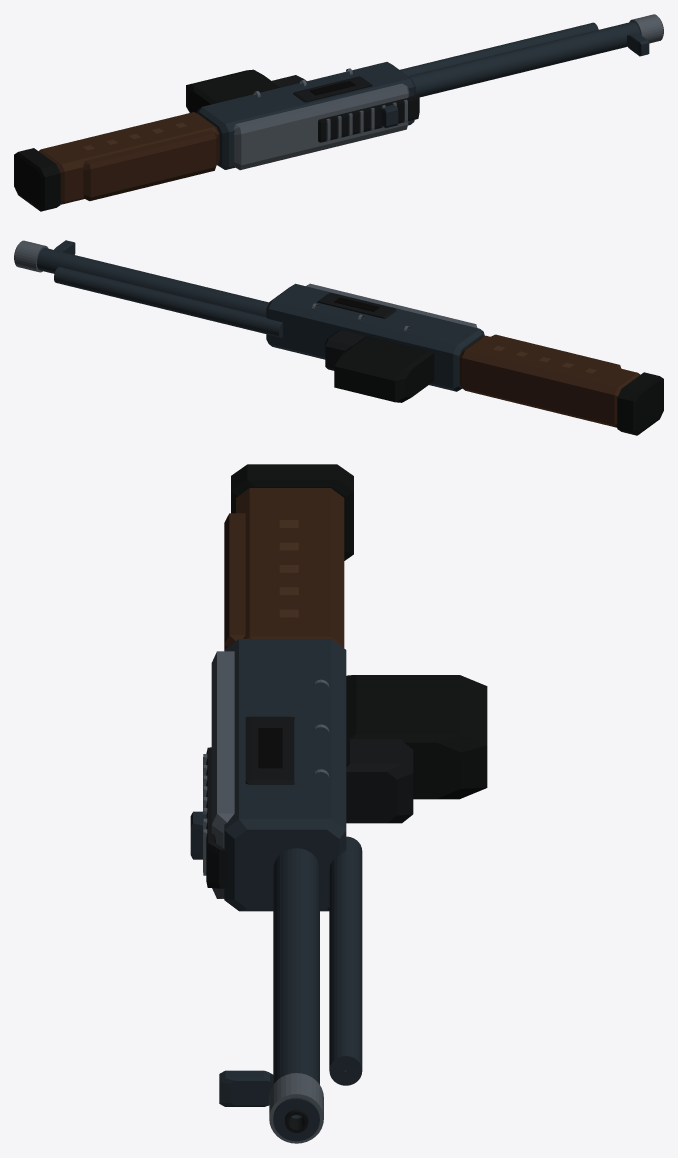
The model's file is shotmaker_main_1995_lod0.obj.
3 views of the same model, one above another, from view 1: azimuth 30°, elevation 25°; view 2: azimuth 150°, elevation 25°; view 3: azimuth 270°, elevation 25° (orthographic). The views are drawn at different scales.
Visible parts, largest first — view 1: receiver_upper, stock_comb, barrel_outer, receiver, buttstock, recoil_pad, pistol_grip, tube_magazine, top_rail, ejection_port, muzzle_sleeve, front_sight (+1 smaller); view 2: buttstock, receiver, pistol_grip, tube_magazine, barrel_outer, recoil_pad, trigger_housing, receiver_upper, ejection_port, muzzle_sleeve, stock_comb; view 3: receiver, buttstock, pistol_grip, barrel_outer, tube_magazine, trigger_housing, receiver_upper, recoil_pad, stock_comb, ejection_port, front_sight, muzzle_sleeve (+2 smaller).
Boxes of the visible parts, x1=… form: receiver_upper: x1=234, y1=83, x2=409, y2=170; stock_comb: x1=83, y1=130, x2=217, y2=201; barrel_outer: x1=409, y1=18, x2=663, y2=97; receiver: x1=197, y1=62, x2=415, y2=169; buttstock: x1=38, y1=112, x2=219, y2=204; recoil_pad: x1=14, y1=148, x2=60, y2=211; pistol_grip: x1=186, y1=69, x2=279, y2=112; tube_magazine: x1=400, y1=22, x2=598, y2=76; top_rail: x1=318, y1=93, x2=419, y2=142; ejection_port: x1=293, y1=76, x2=372, y2=102; muzzle_sleeve: x1=629, y1=14, x2=663, y2=43; front_sight: x1=627, y1=33, x2=649, y2=56; buttstock: x1=459, y1=335, x2=640, y2=427; receiver: x1=266, y1=283, x2=484, y2=391; pistol_grip: x1=334, y1=336, x2=434, y2=402; tube_magazine: x1=54, y1=267, x2=282, y2=337; barrel_outer: x1=14, y1=244, x2=268, y2=316; recoil_pad: x1=617, y1=372, x2=663, y2=435; trigger_housing: x1=325, y1=330, x2=365, y2=370; receiver_upper: x1=306, y1=283, x2=477, y2=327; ejection_port: x1=317, y1=292, x2=396, y2=318; muzzle_sleeve: x1=14, y1=240, x2=48, y2=272; stock_comb: x1=491, y1=334, x2=621, y2=368; receiver: x1=224, y1=639, x2=346, y2=911; buttstock: x1=236, y1=488, x2=344, y2=647; pistol_grip: x1=346, y1=675, x2=487, y2=799; barrel_outer: x1=273, y1=848, x2=319, y2=1141; tube_magazine: x1=329, y1=836, x2=362, y2=1085; trigger_housing: x1=346, y1=738, x2=413, y2=823; receiver_upper: x1=211, y1=651, x2=234, y2=898; recoil_pad: x1=231, y1=464, x2=353, y2=560; stock_comb: x1=224, y1=513, x2=245, y2=649; ejection_port: x1=245, y1=716, x2=294, y2=784; front_sight: x1=219, y1=1070, x2=273, y2=1106; muzzle_sleeve: x1=269, y1=1073, x2=323, y2=1143.
Size of the model in its own units: 138 by 10.71 by 28.
